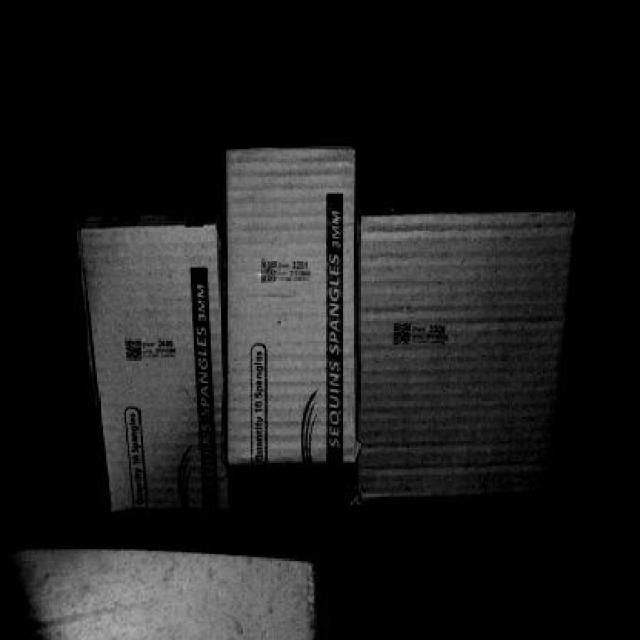cardboxes: (364, 214, 570, 515), (79, 226, 230, 511), (230, 146, 359, 469)
